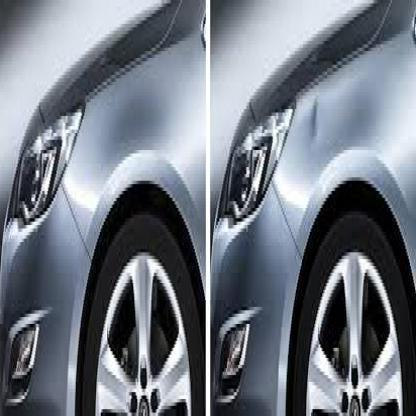dent: (302, 90, 324, 156)
